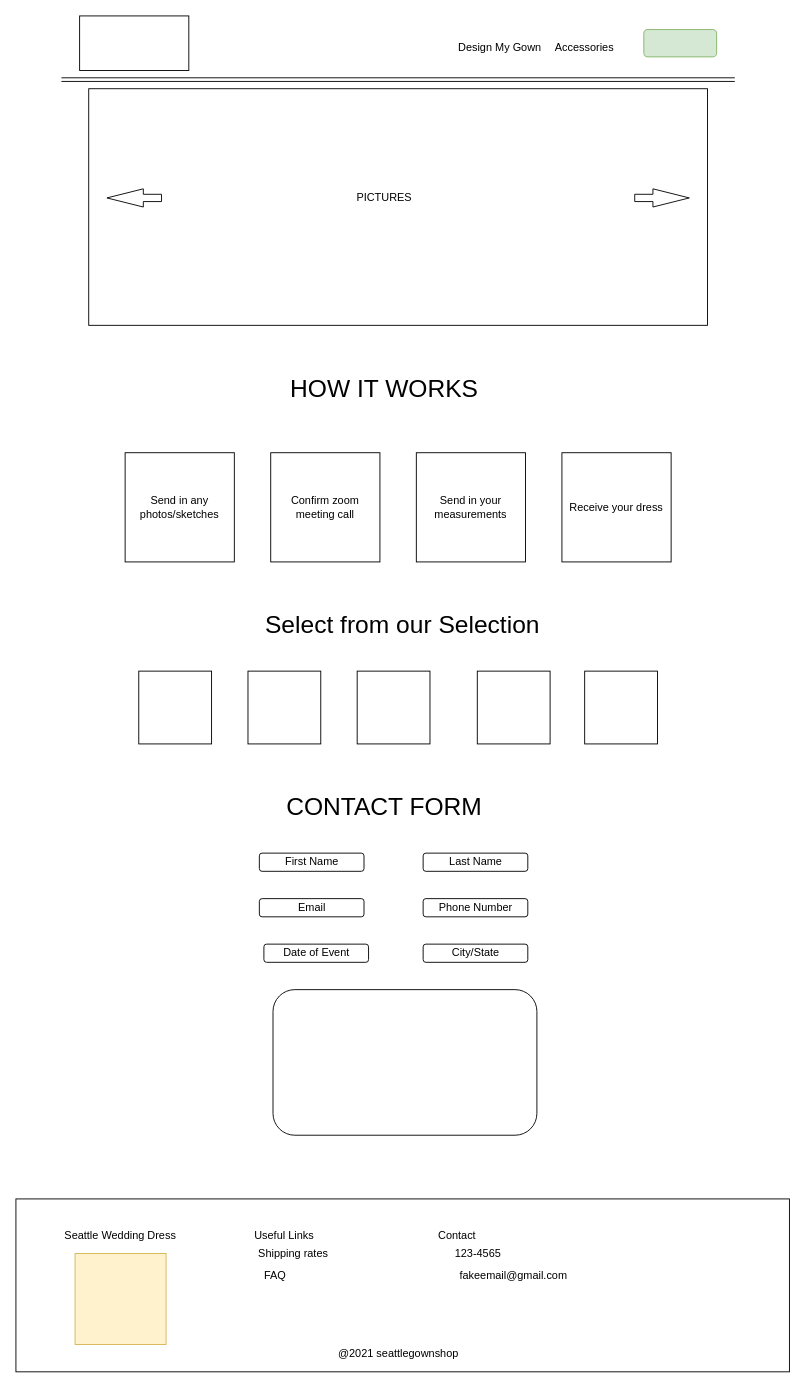
This 805x1388 diagram has some shape labels left out. The shapes that lost their labels are listed below. From the top down, each one's centre as x and y in pixels, then its label:
At pixel 134 43: "LOGO".
At pixel 680 43: "My Cart".
At pixel 404 1062: "Message".
